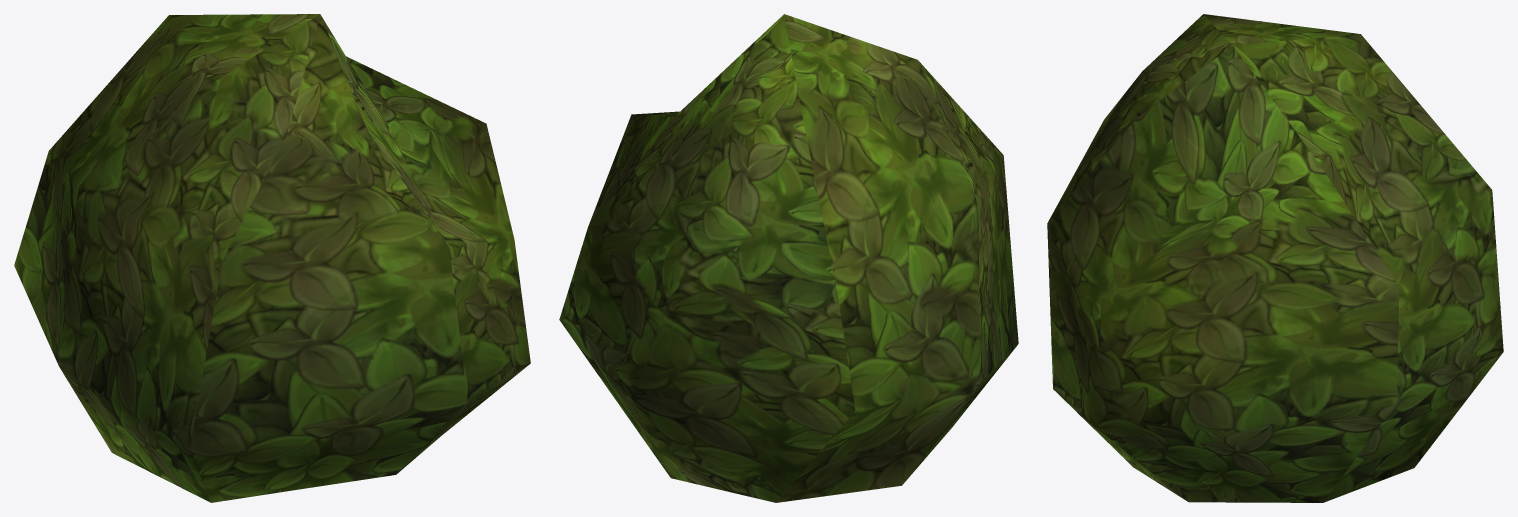
Rendered from fanasty_mod_lar_round_bush.fbx.
3 views of the same model, side by side, from view 1: azimuth 30°, elevation 25°; view 2: azimuth 150°, elevation 25°; view 3: azimuth 270°, elevation 25° (orthographic). The views are drawn at different scales.
Parts seen in each view (by area): view 1: lar_round_bush; view 2: lar_round_bush; view 3: lar_round_bush.
Boxes of the visible parts, box(x1,y1,x2,y2) form: lar_round_bush: box(14, 14, 530, 502); lar_round_bush: box(559, 14, 1018, 502); lar_round_bush: box(1047, 14, 1503, 502).
Bounding box in the file's own units: 3.14 × 3.23 × 3.26.
